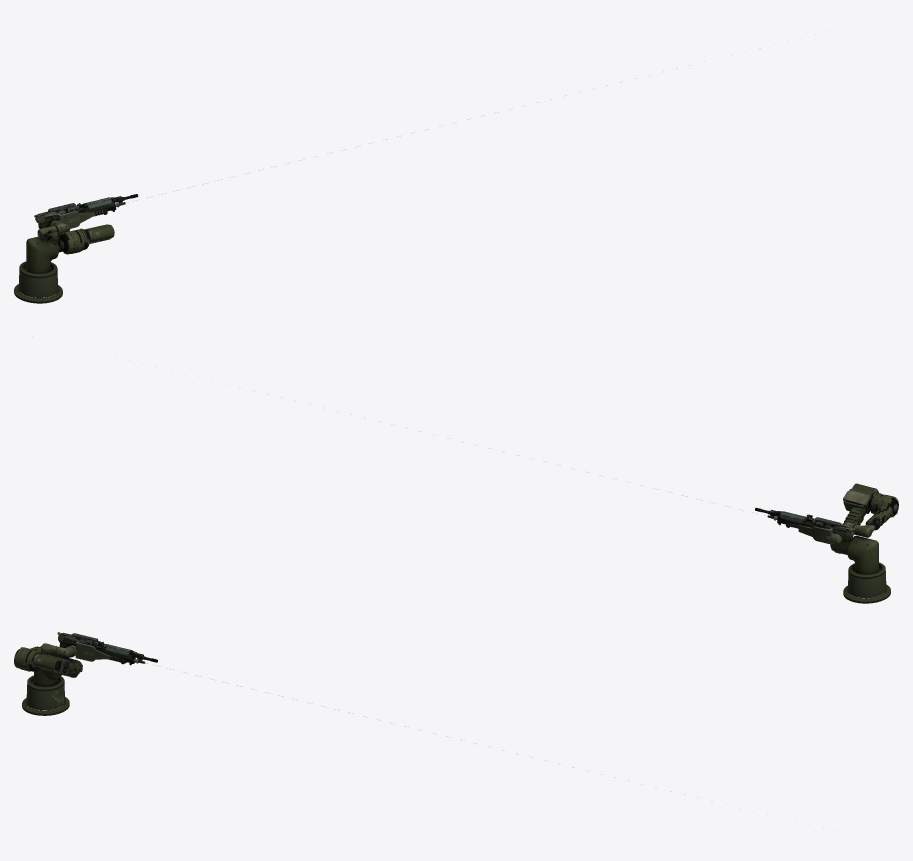
3 views of the same model, one above another, from view 1: azimuth 30°, elevation 25°; view 2: azimuth 150°, elevation 25°; view 3: azimuth 330°, elevation 25° (orthographic). The views are drawn at different scales.
Visible parts, largest first — view 1: turret; view 2: turret; view 3: turret.
Boxes of the visible parts, x1,y1,x2,y2 form: turret: (14, 194, 138, 303); turret: (755, 483, 898, 603); turret: (14, 632, 157, 715).
Size of the model in its own units: 10.26 by 0.8765 by 0.9343.
1 material, 1 textured.
